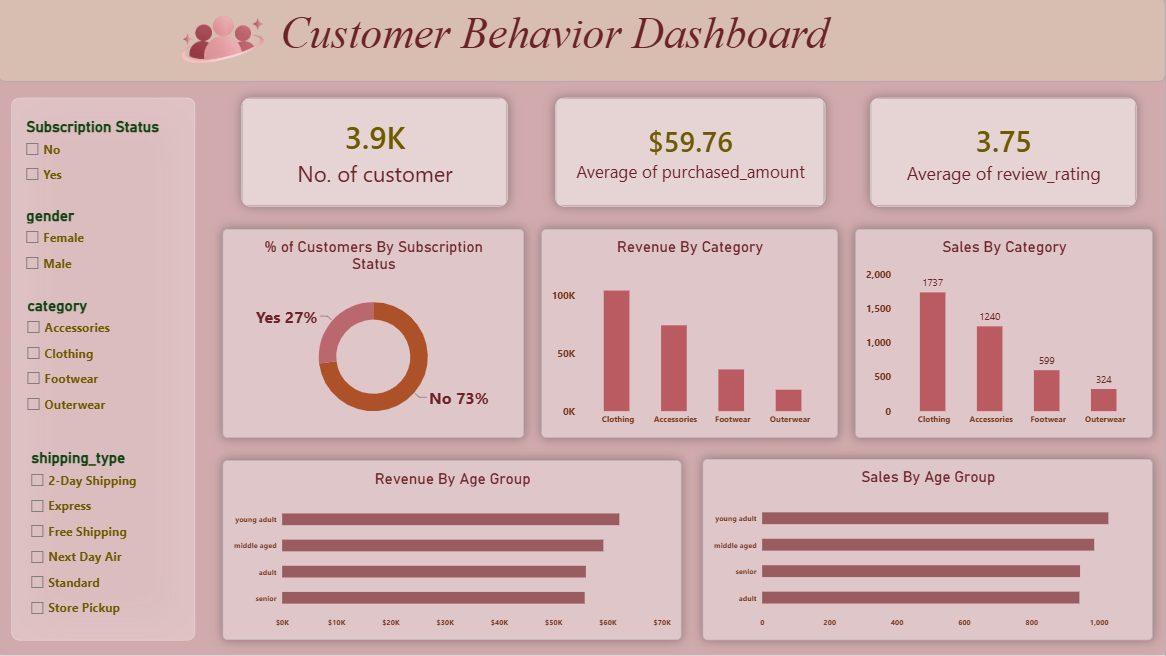

The dashboard page shown, as its layout file describes it:
{"tool":"powerbi","page":{"name":"Page 1","canvas":[1920,1080],"ordinal":0},"visuals":[{"type":"textbox","box":[0,0,1919.6,134.8],"z":0},{"type":"cardVisual","title":"Avg of purchase_amount","fields":{"Data":["Avg(processed_Cust_Shopping_Behavior.purchased_amount)"]},"box":[916,162.6,444.6,179.1],"z":1000},{"type":"cardVisual","title":"Avg of purchase_amount","fields":{"Data":["Avg(processed_Cust_Shopping_Behavior.review_rating)"]},"box":[1434.7,162.6,438.4,179.1],"z":2000},{"type":"cardVisual","title":"Avg of purchase_amount","fields":{"Data":["CountNonNull(processed_Cust_Shopping_Behavior.customer_id)"]},"box":[399.3,162.6,438.4,179.1],"z":3000},{"type":"donutChart","title":"% of Customers By Subscription Status","fields":{"Category":["processed_Cust_Shopping_Behavior.subscription_status"],"Y":["CountNonNull(processed_Cust_Shopping_Behavior.subscription_status)"]},"box":[368.4,378.7,496.1,343.7],"z":4000},{"type":"columnChart","title":"Revenue By Category","fields":{"Category":["processed_Cust_Shopping_Behavior.category"],"Y":["Sum(processed_Cust_Shopping_Behavior.purchased_amount)"]},"box":[893.3,378.7,487.8,343.7],"z":5000},{"type":"columnChart","title":"Sales By Category","fields":{"Category":["processed_Cust_Shopping_Behavior.category"],"Y":["CountNonNull(processed_Cust_Shopping_Behavior.item_purchased)"]},"box":[1410,378.7,489.9,343.7],"z":6000},{"type":"barChart","title":"Revenue By Age Group","fields":{"Category":["processed_Cust_Shopping_Behavior.age_group"],"Y":["Sum(processed_Cust_Shopping_Behavior.purchased_amount)"]},"box":[368.4,759.5,755.4,296.4],"z":7000},{"type":"barChart","title":"Sales By Age Group","fields":{"Category":["processed_Cust_Shopping_Behavior.age_group"],"Y":["CountNonNull(processed_Cust_Shopping_Behavior.item_purchased)"]},"box":[1158.8,757.5,741,298.5],"z":8000},{"type":"textbox","box":[20.6,162.6,302.6,893.3],"z":8500},{"type":"slicer","fields":{"Values":["processed_Cust_Shopping_Behavior.gender"]},"box":[37,341.7,244.9,127.6],"z":9000},{"type":"slicer","fields":{"Values":["processed_Cust_Shopping_Behavior.shipping_type"]},"box":[45.3,741,244.9,298.5],"z":10000},{"type":"slicer","fields":{"Values":["processed_Cust_Shopping_Behavior.category"]},"box":[39.1,489.9,244.9,269.6],"z":11000},{"type":"image","box":[218.2,14.4,300.5,105],"z":14000},{"type":"slicer","fields":{"Values":["processed_Cust_Shopping_Behavior.subscription_status"]},"box":[37,195.5,263.5,117.3],"z":15000}]}

Visuals, with their boxes in screenshot pixels (x1, y1, x2, y2), scaled from the page's 1920x1080 canvas onto the 1166x656 screenshot:
textbox: region(0, 0, 1165, 82)
"Avg of purchase_amount" cardVisual: region(556, 99, 826, 208)
"Avg of purchase_amount" cardVisual: region(871, 99, 1138, 208)
"Avg of purchase_amount" cardVisual: region(242, 99, 509, 208)
"% of Customers By Subscription Status" donutChart: region(224, 230, 525, 439)
"Revenue By Category" columnChart: region(542, 230, 839, 439)
"Sales By Category" columnChart: region(856, 230, 1154, 439)
"Revenue By Age Group" barChart: region(224, 461, 682, 641)
"Sales By Age Group" barChart: region(704, 460, 1154, 641)
textbox: region(13, 99, 196, 641)
slicer - processed_Cust_Shopping_Behavior.gender: region(22, 208, 171, 285)
slicer - processed_Cust_Shopping_Behavior.shipping_type: region(28, 450, 176, 631)
slicer - processed_Cust_Shopping_Behavior.category: region(24, 298, 172, 461)
image: region(133, 9, 315, 73)
slicer - processed_Cust_Shopping_Behavior.subscription_status: region(22, 119, 182, 190)
